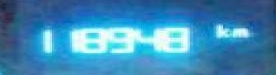1: (38, 25, 54, 54), (67, 27, 76, 53)
4: (132, 27, 161, 53)
8: (161, 25, 192, 52), (76, 25, 105, 52)
9: (105, 25, 131, 52)
X: (212, 23, 230, 37), (229, 25, 247, 36)
